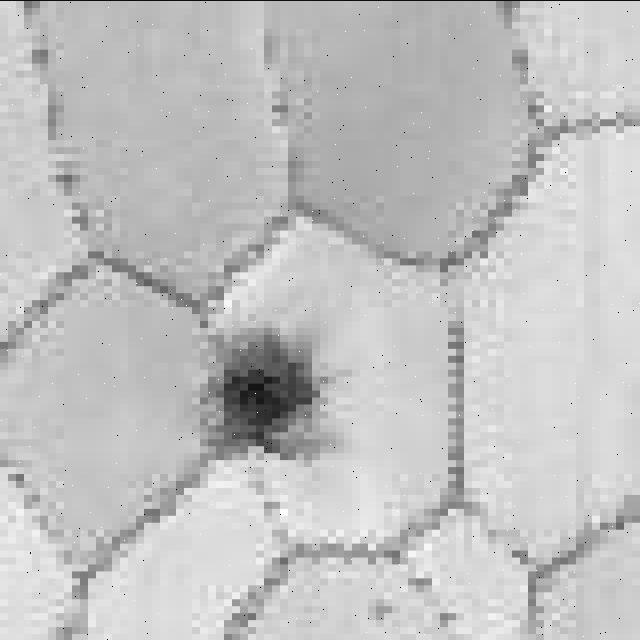good_void: (186, 321, 334, 466)
